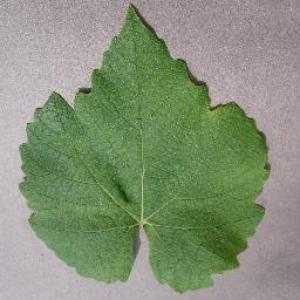Folha: (17, 2, 270, 294)
